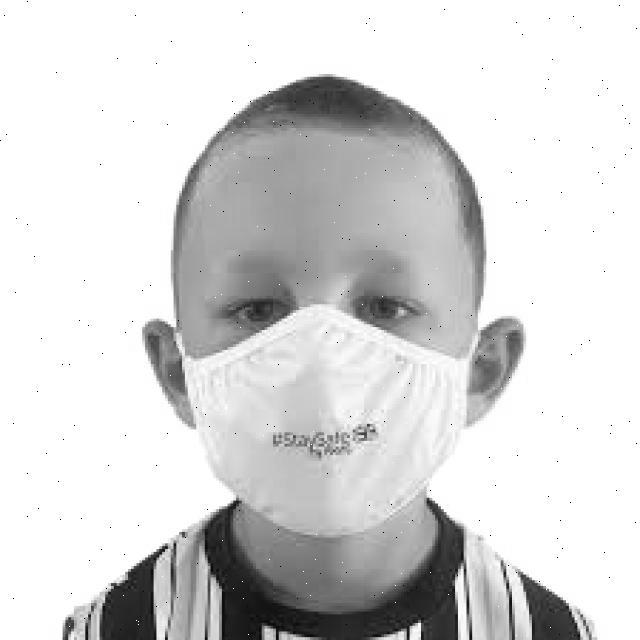fake: (137, 322, 516, 554)
real: (177, 135, 464, 560)
